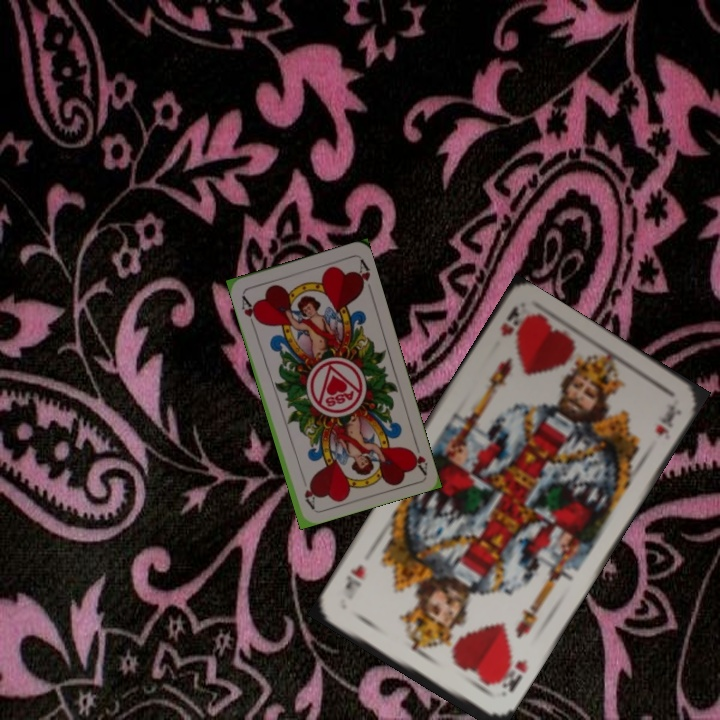HA: (406, 436, 430, 476), (237, 292, 262, 330)
HK: (490, 651, 531, 695), (496, 302, 530, 339)
